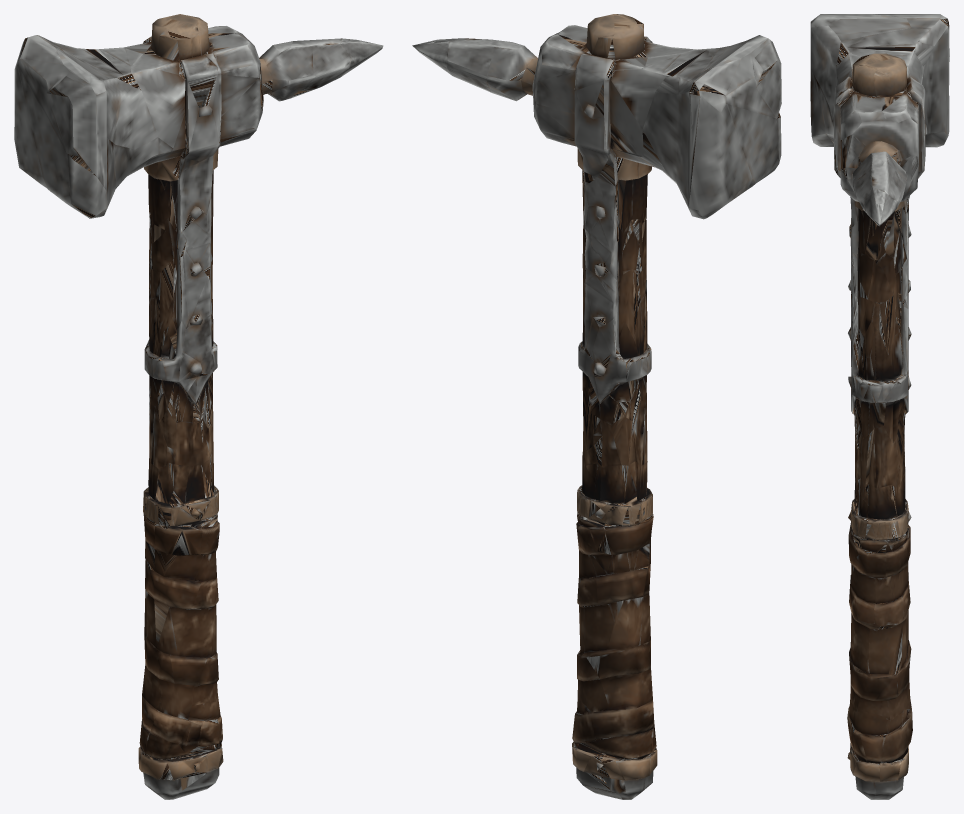
File: war_hammer.glb
The picture shows the model from 3 angles, left to right: view 1: azimuth 30°, elevation 25°; view 2: azimuth 150°, elevation 25°; view 3: azimuth 270°, elevation 25°; orthographic projection. The views are drawn at different scales.
Parts seen in each view (by area): view 1: Mesh_0; view 2: Mesh_0; view 3: Mesh_0.
Part boxes in pixels (x1,y1,x2,y2): Mesh_0: [14, 14, 383, 799]; Mesh_0: [412, 14, 781, 799]; Mesh_0: [810, 14, 949, 799].
Bounding box in the file's own units: 0.5323 × 1.15 × 0.1988.
Materials: 1 (1 with a texture image).
